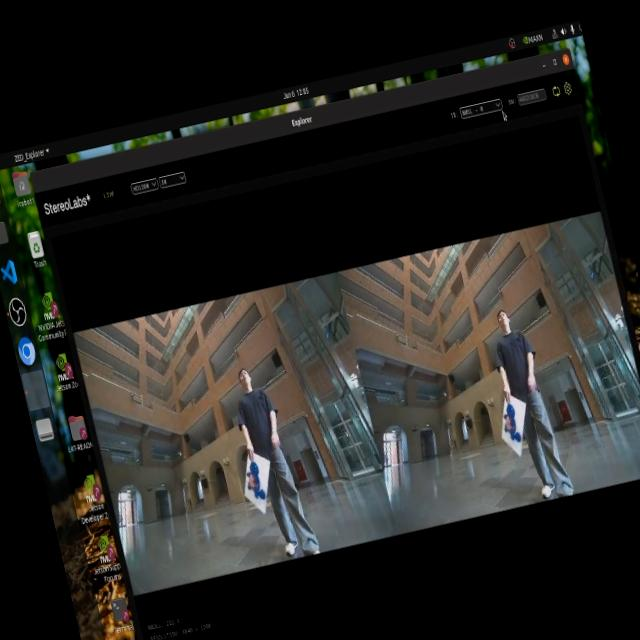blue: (237, 460, 274, 512), (497, 408, 527, 456)
